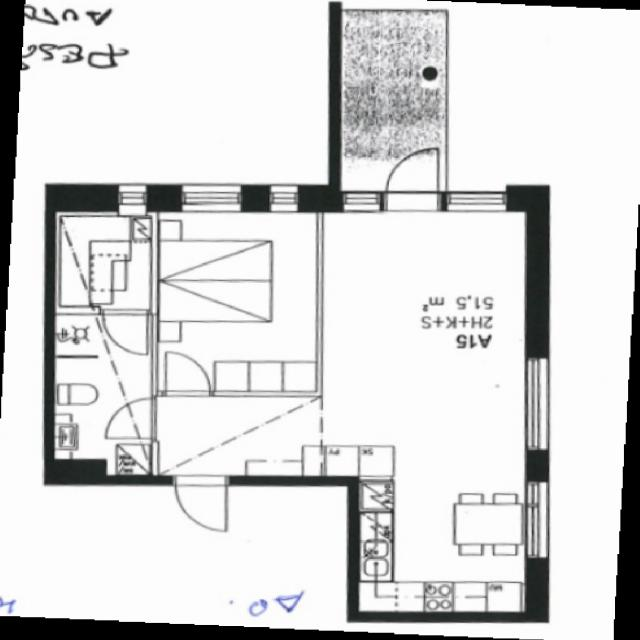door: (385, 137, 439, 212), (175, 476, 228, 530), (105, 398, 157, 438), (166, 352, 210, 397), (104, 306, 146, 352)
